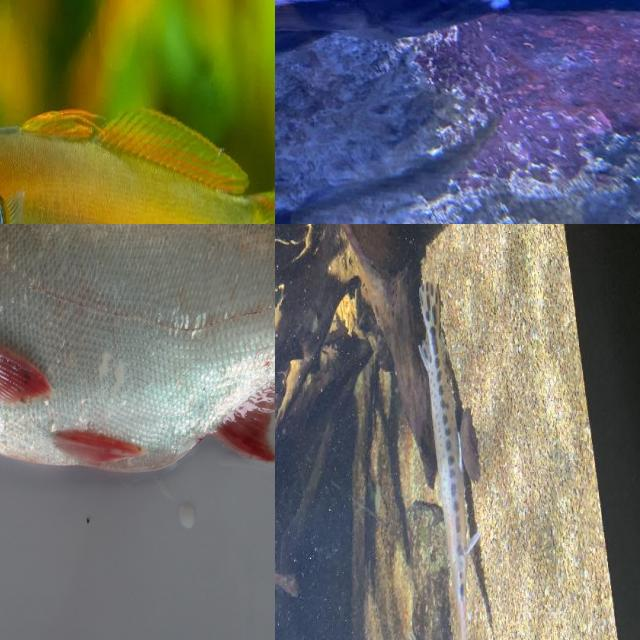fish: (0, 224, 275, 531), (0, 0, 275, 224), (413, 269, 487, 640)
